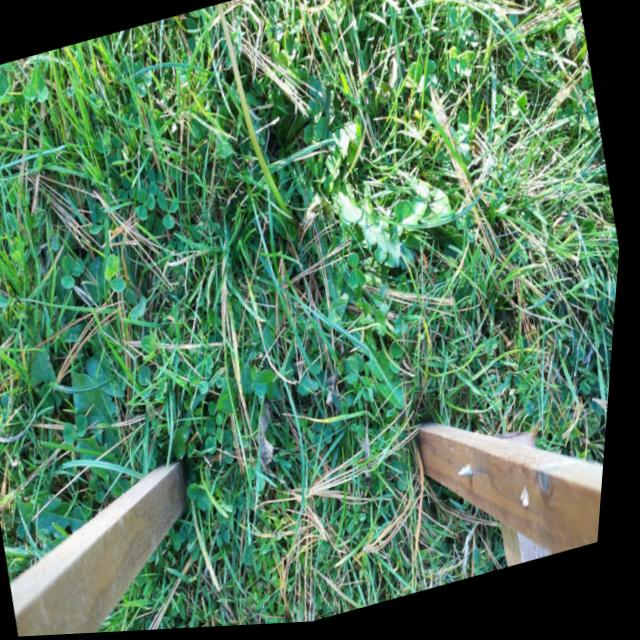base: (279, 202, 310, 246)
